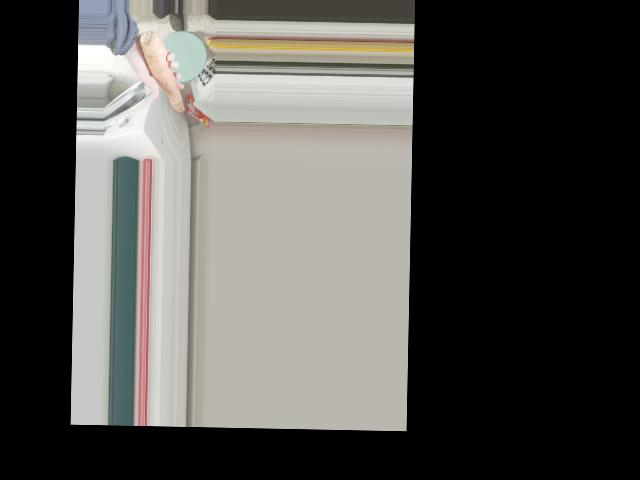sweet_potato: (135, 29, 190, 118)
